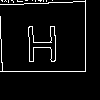H: (25, 25, 60, 72)
